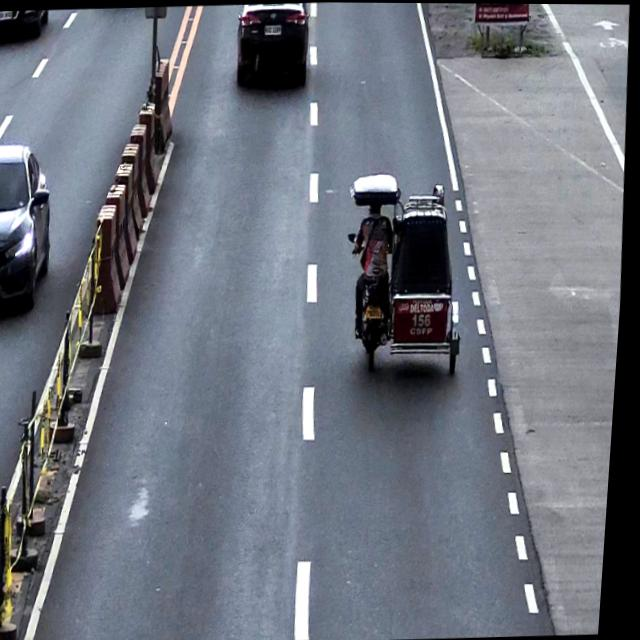Car: (0, 141, 61, 310), (233, 2, 313, 88), (0, 9, 51, 42)
License-Plate: (368, 303, 387, 319), (264, 23, 283, 36), (0, 11, 13, 19)
Tricycle: (340, 169, 475, 378)
